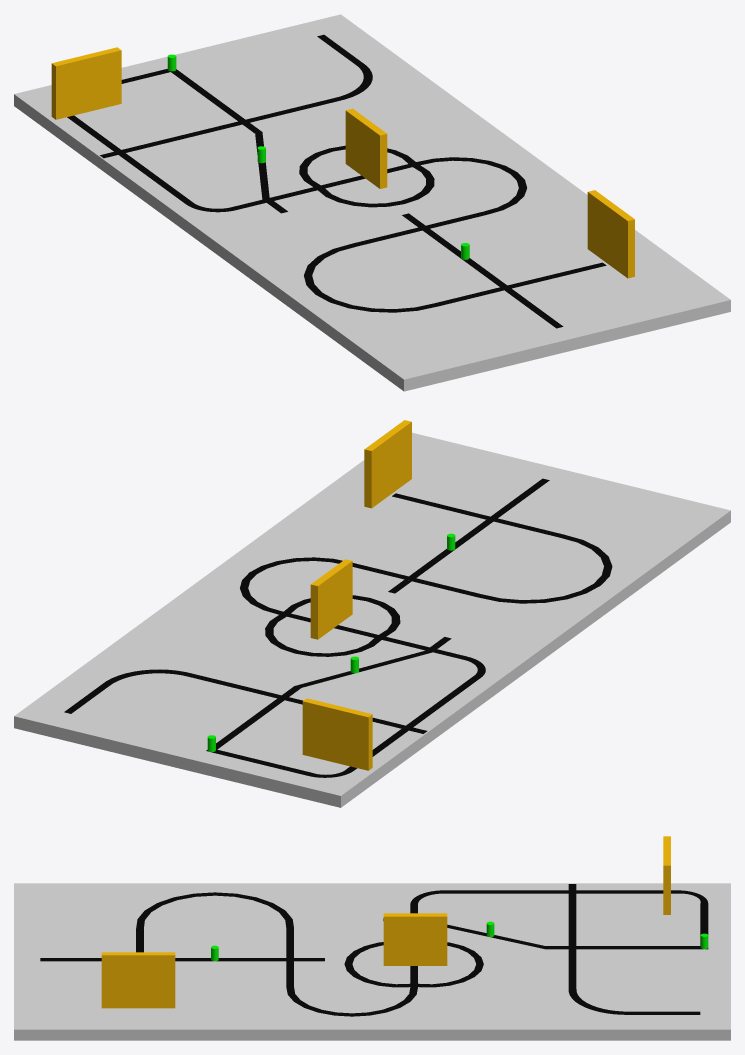
The model's file is mapsketched.dae.
The picture shows the model from 3 angles, top to bottom: view 1: azimuth 30°, elevation 25°; view 2: azimuth 150°, elevation 25°; view 3: azimuth 270°, elevation 25°; orthographic projection. The views are drawn at different scales.
Parts seen in each view (by area): view 1: SketchUp (×10); view 2: SketchUp (×10); view 3: SketchUp (×10).
Part boxes in pixels (left/top/right/bottom): SketchUp (×10): left=14, top=14, right=730, bottom=391; SketchUp (×10): left=14, top=420, right=730, bottom=807; SketchUp (×10): left=14, top=836, right=730, bottom=1040.
Bounding box in the file's own units: 44.75 × 92.5 × 9.06.
